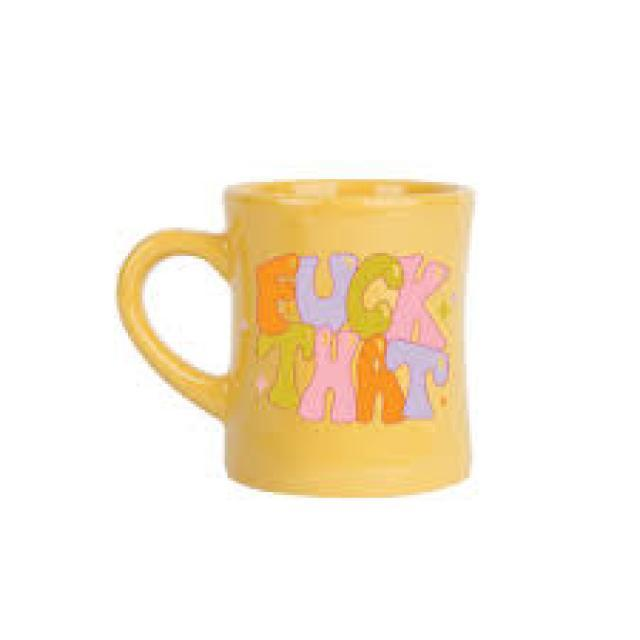taza: (116, 177, 476, 497)
